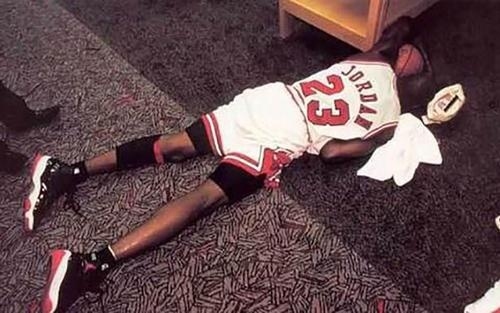falling: (25, 5, 467, 307)
